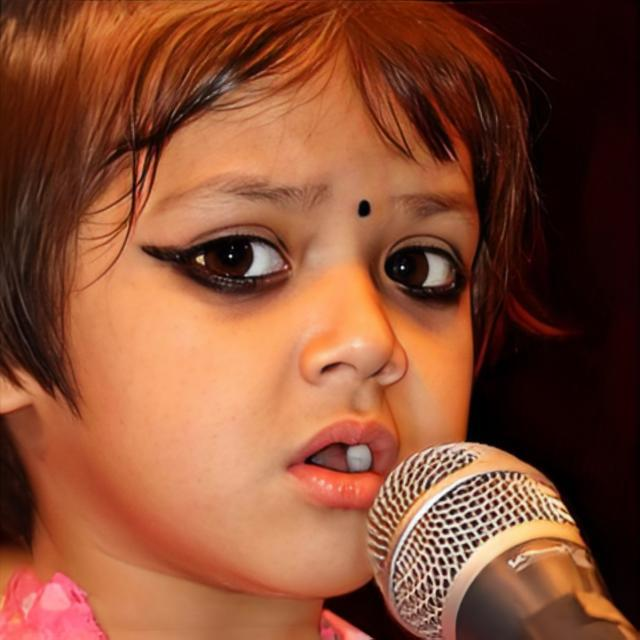fear: (36, 0, 483, 601)
